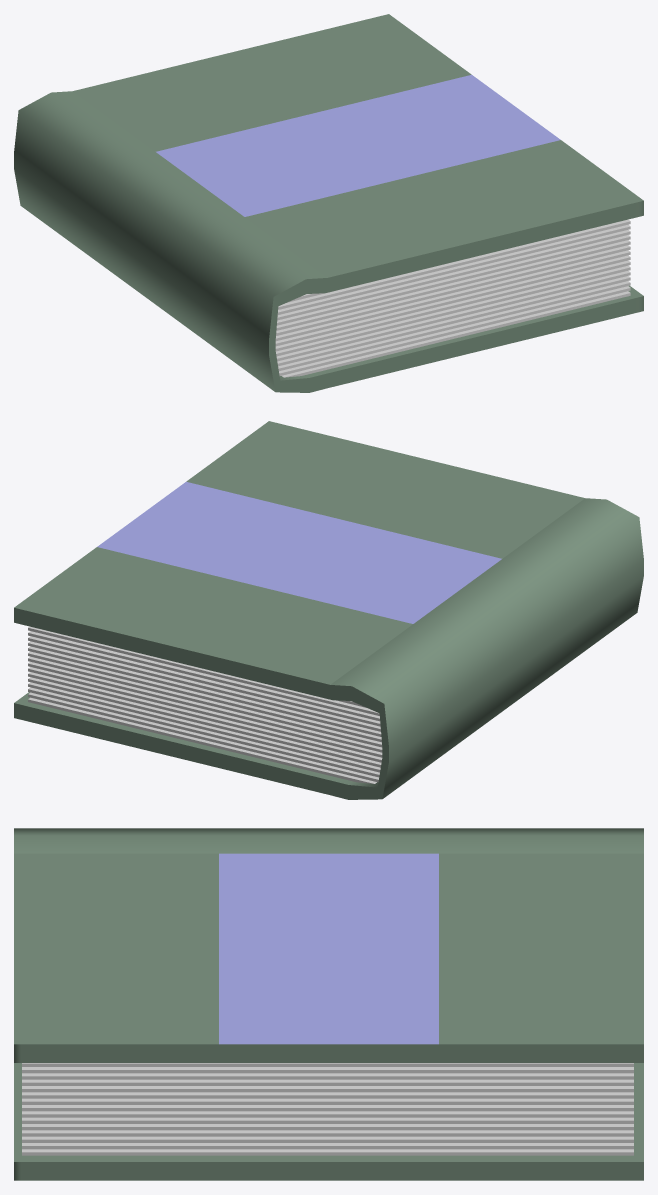
Rendered from book3.glb.
3 renders of one model, top to bottom at view 1: azimuth 30°, elevation 25°; view 2: azimuth 150°, elevation 25°; view 3: azimuth 270°, elevation 25°, orthographic. The views are drawn at different scales.
Parts seen in each view (by area): view 1: book close_paper.016; view 2: book close_paper.016; view 3: book close_paper.016.
Part boxes in pixels (bbox=[...]): book close_paper.016: bbox=[14, 14, 643, 392]; book close_paper.016: bbox=[14, 421, 643, 799]; book close_paper.016: bbox=[14, 828, 643, 1180].
Size of the model in its own units: 0.3693 by 0.1078 by 0.435.
